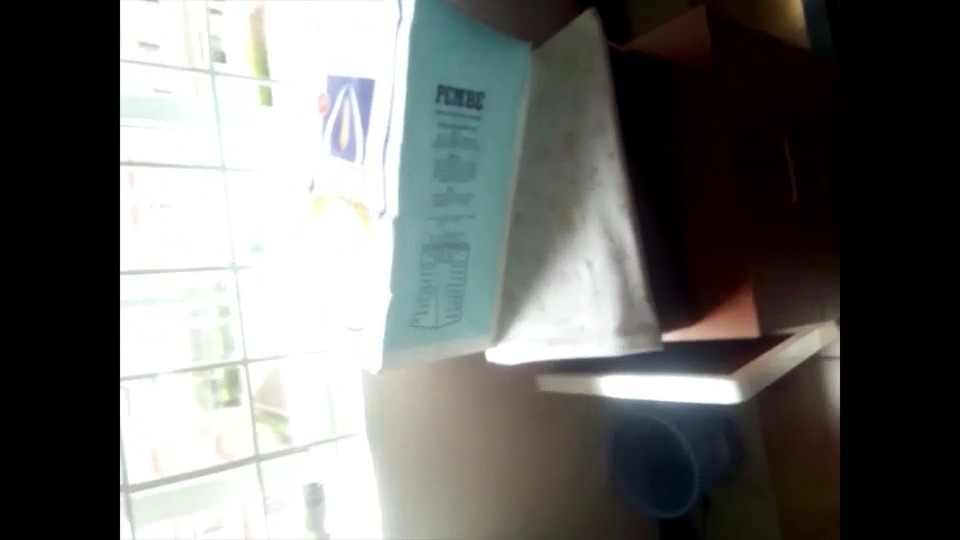wheat_flour_blue_label: (332, 2, 528, 365)
